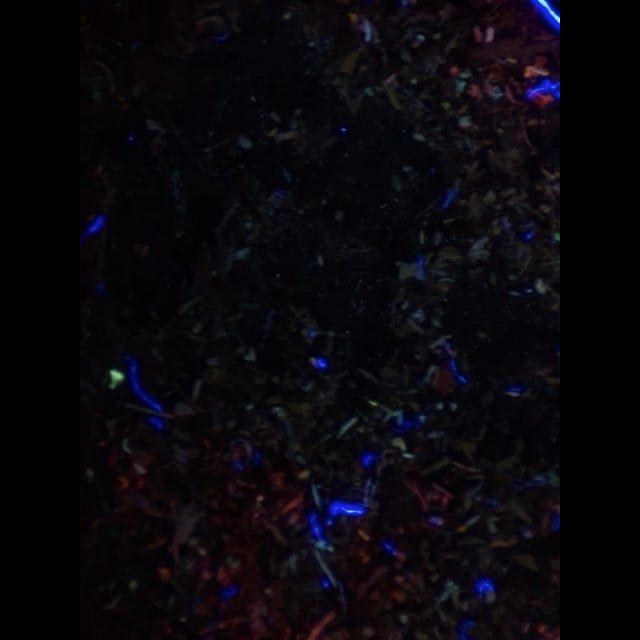microbeads: (108, 368, 126, 389)
